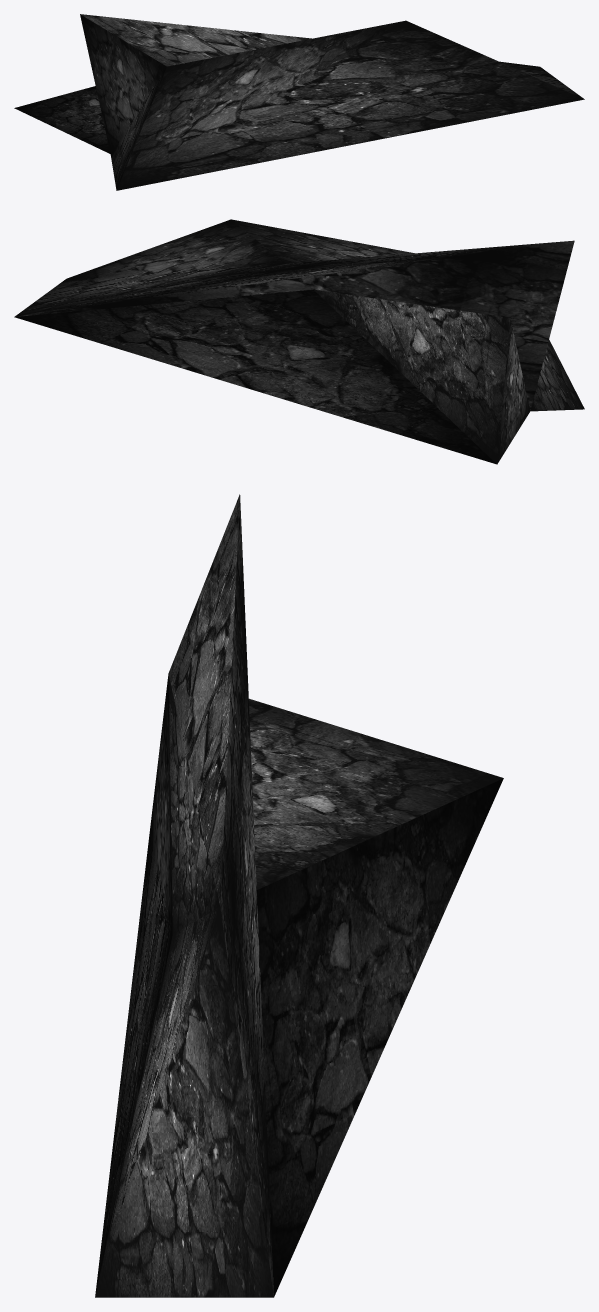
File: RuinH.FBX
3 renders of one model, top to bottom at view 1: azimuth 30°, elevation 25°; view 2: azimuth 150°, elevation 25°; view 3: azimuth 270°, elevation 25°, orthographic. The views are drawn at different scales.
Visible parts, largest first — view 1: Box001, Box002; view 2: Box001, Box002; view 3: Box001, Box002.
Boxes of the visible parts, x1=… form: Box001: x1=14, y1=20, x2=584, y2=190; Box002: x1=80, y1=14, x2=311, y2=153; Box001: x1=14, y1=219, x2=584, y2=464; Box002: x1=16, y1=240, x2=574, y2=410; Box001: x1=95, y1=674, x2=503, y2=1297; Box002: x1=168, y1=494, x2=273, y2=1295.
Bounding box in the file's own units: 96.76 × 34.17 × 36.54.
Materials: 1 (1 with a texture image).
